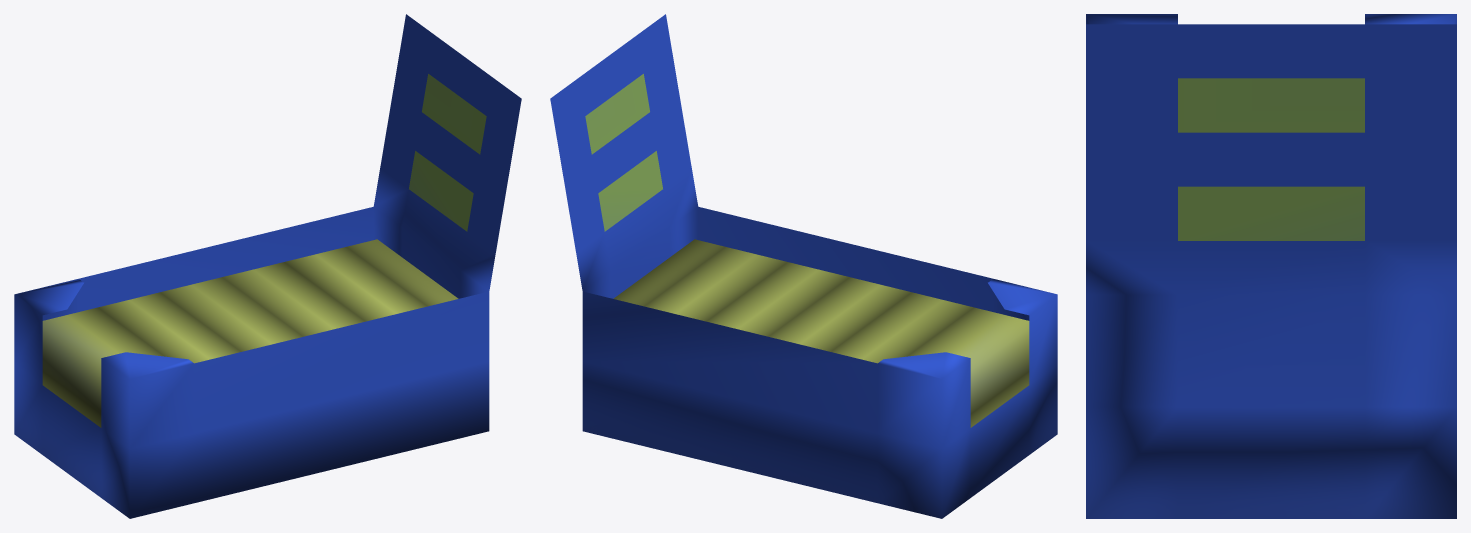
The model's file is candy_box.glb.
3 views of the same model, side by side, from view 1: azimuth 30°, elevation 25°; view 2: azimuth 150°, elevation 25°; view 3: azimuth 270°, elevation 25° (orthographic). The views are drawn at different scales.
Visible parts, largest first — view 1: Cube.006; view 2: Cube.006; view 3: Cube.006.
Part boxes in pixels (left/top/right/bottom): Cube.006: left=14, top=14, right=521, bottom=518; Cube.006: left=550, top=14, right=1057, bottom=518; Cube.006: left=1086, top=14, right=1456, bottom=518.
Bounding box in the file's own units: 0.3403 × 0.2694 × 0.174.
